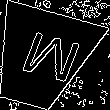M_S: (6, 28, 77, 90)
